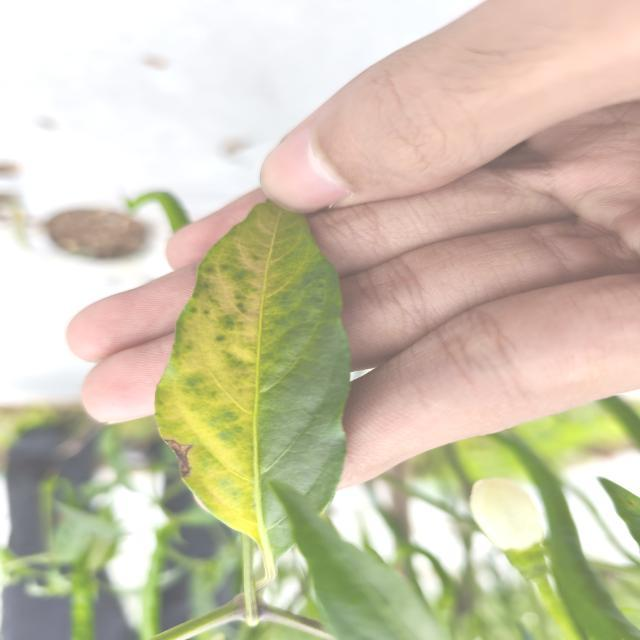Virus Kuning: (153, 198, 353, 587)
